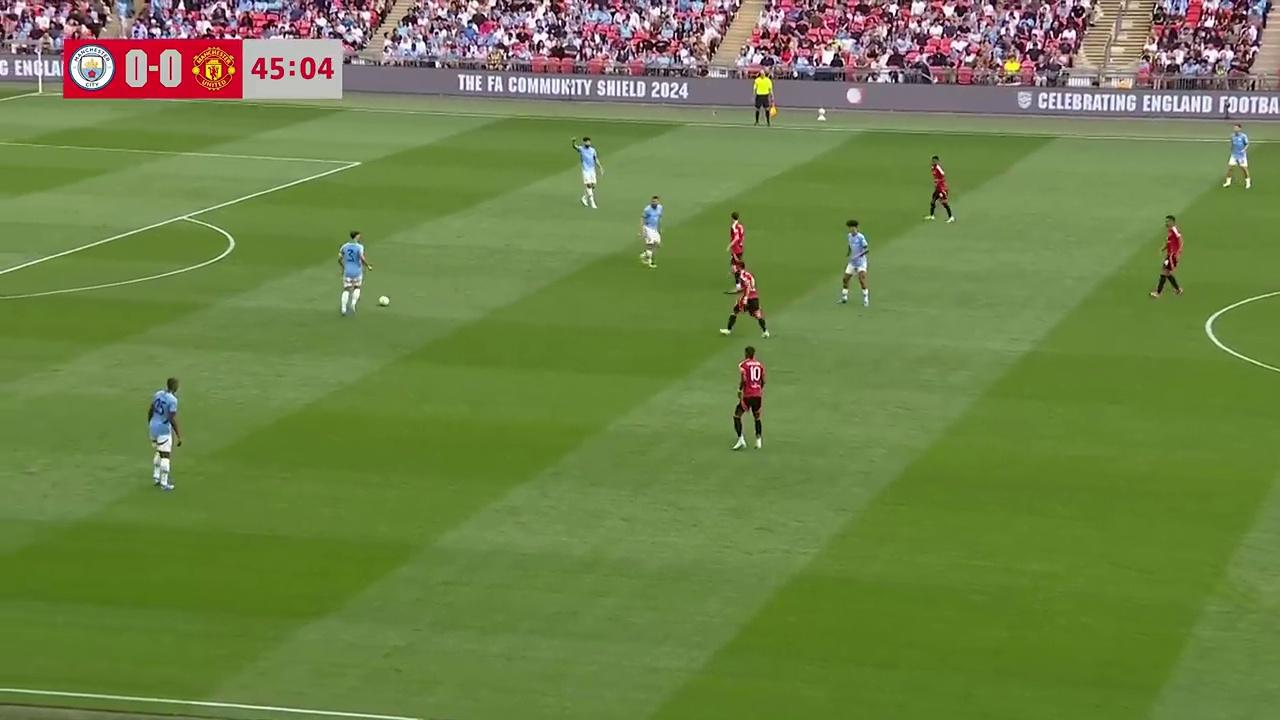ball: (377, 292, 390, 308)
player: (147, 376, 183, 490), (720, 263, 770, 337), (732, 345, 765, 451), (337, 230, 372, 315), (1149, 215, 1183, 298), (838, 219, 870, 307), (572, 136, 603, 208), (925, 155, 955, 223), (1222, 122, 1252, 189), (638, 194, 663, 268), (726, 212, 745, 280)
referee: (752, 69, 775, 127)
